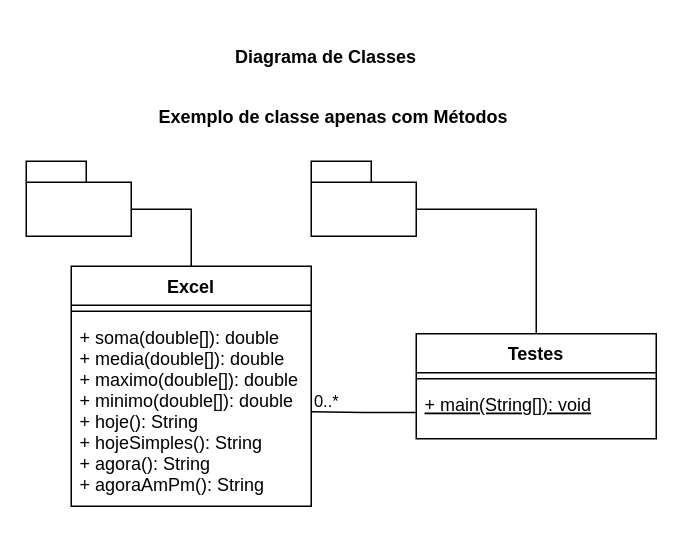
The diagram is 683 pixels wide and 536 high, and some of its shapes have lost their labels. The shapes that lost their labels are listed below. From the top down, each one's centre as x and y in pixels, then its label:
At point (78, 198): "modelo".
At point (363, 198): "visao".
